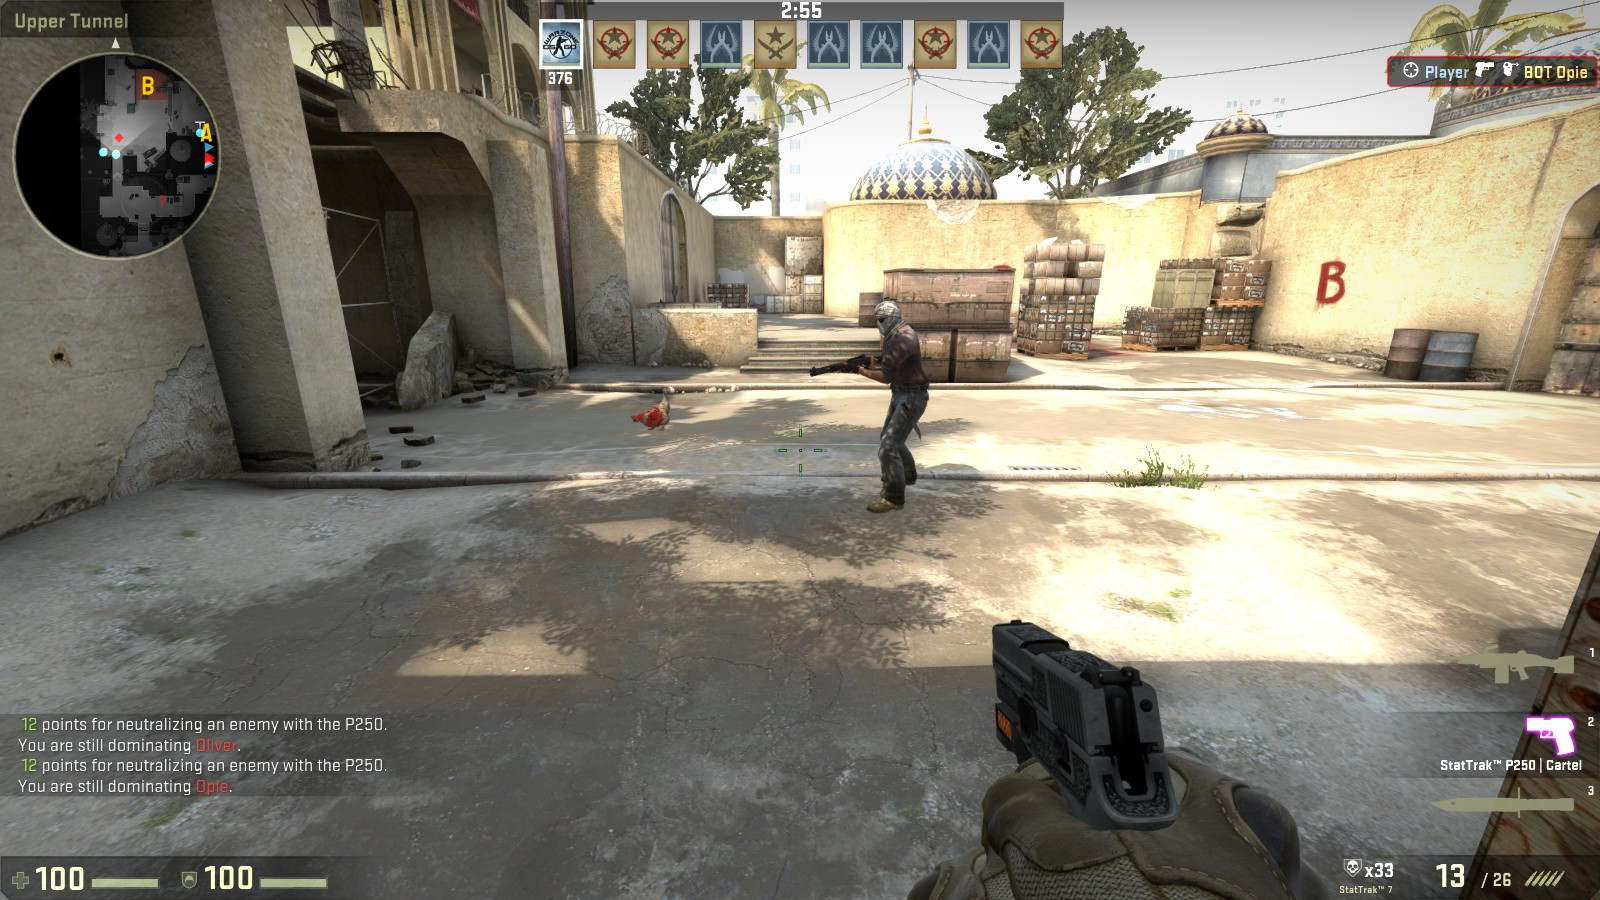t: (856, 297, 935, 520)
th: (866, 297, 905, 341)
